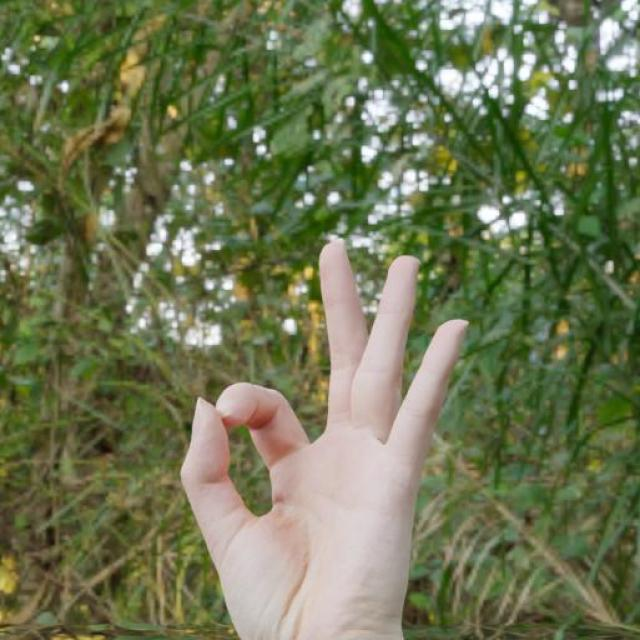F: (173, 235, 478, 640)
